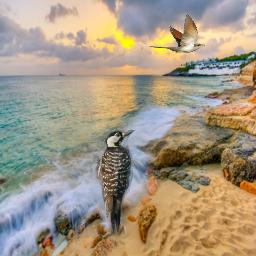Cuckoo: (149, 14, 205, 53)
Woodpecker: (88, 130, 136, 239)
